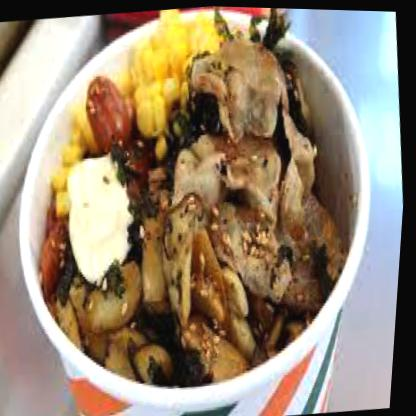cup rice: (22, 2, 372, 412)
